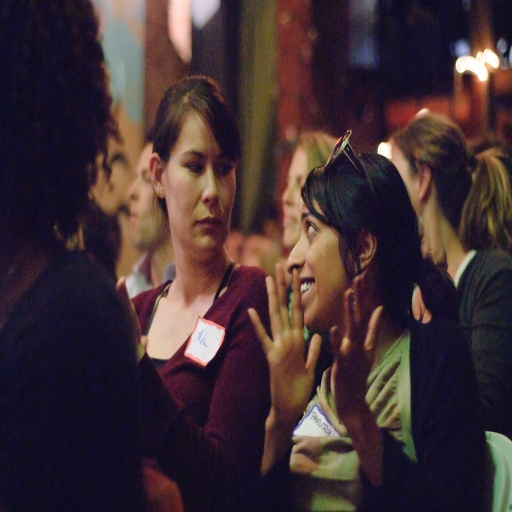hand: (254, 273, 320, 437), (330, 269, 384, 430), (113, 275, 143, 350)
